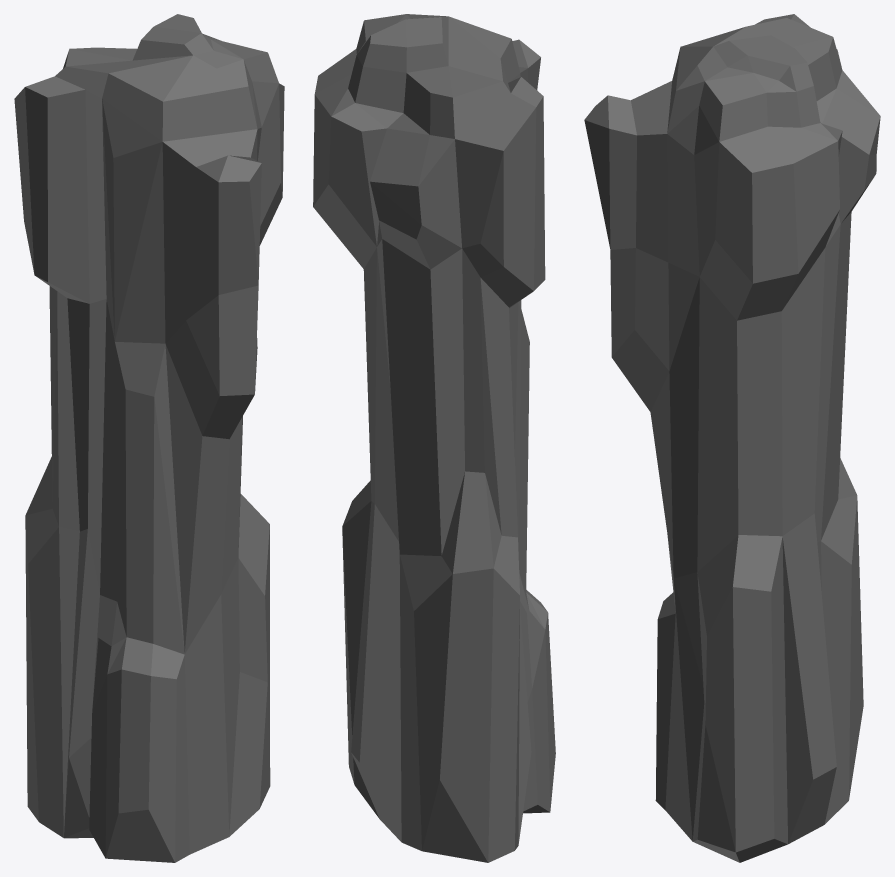
File: SM_Gen_Env_Cliff_Pillar_01.glb
3 views of the same model, side by side, from view 1: azimuth 30°, elevation 25°; view 2: azimuth 150°, elevation 25°; view 3: azimuth 270°, elevation 25° (orthographic).
Parts seen in each view (by area): view 1: SM_Gen_Env_Cliff_Pillar_01; view 2: SM_Gen_Env_Cliff_Pillar_01; view 3: SM_Gen_Env_Cliff_Pillar_01.
Boxes of the visible parts, x1,y1,x2,y2 form: SM_Gen_Env_Cliff_Pillar_01: (14, 14, 284, 862); SM_Gen_Env_Cliff_Pillar_01: (313, 14, 555, 862); SM_Gen_Env_Cliff_Pillar_01: (584, 14, 880, 862).
Size of the model in its own units: 3.04 by 9.56 by 3.26.
Materials: 1 (1 with a texture image).
